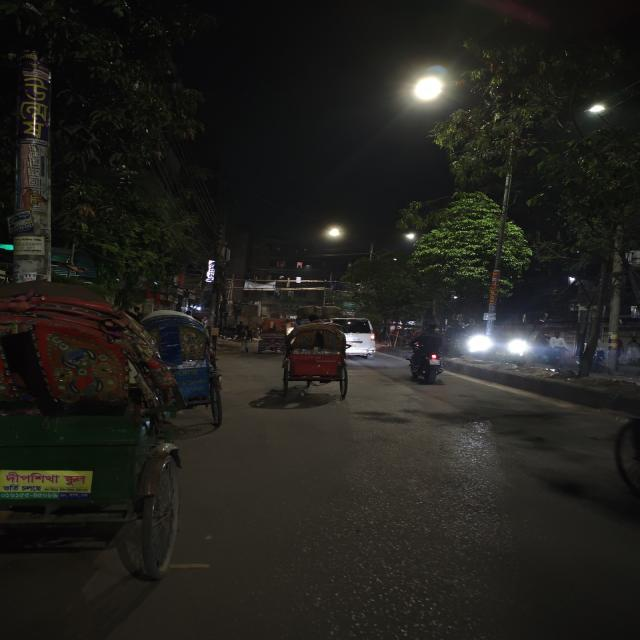car: (328, 316, 383, 358)
motorcycle: (408, 323, 450, 385)
rickshaw: (0, 277, 200, 588), (130, 302, 240, 426), (277, 321, 350, 397), (260, 318, 286, 353)
